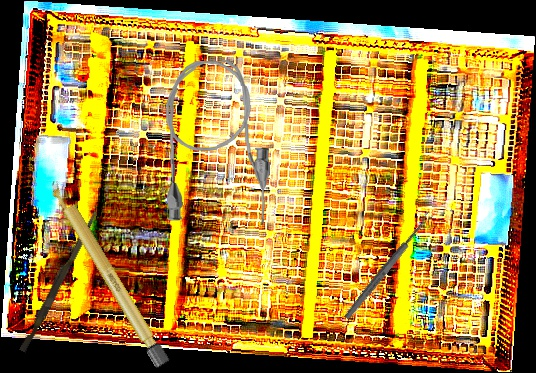Cannula: (160, 57, 273, 231)
Pusher: (19, 208, 98, 355)
Scalpel Handle: (44, 174, 173, 371)
Surgical Spoon: (342, 211, 435, 321)
